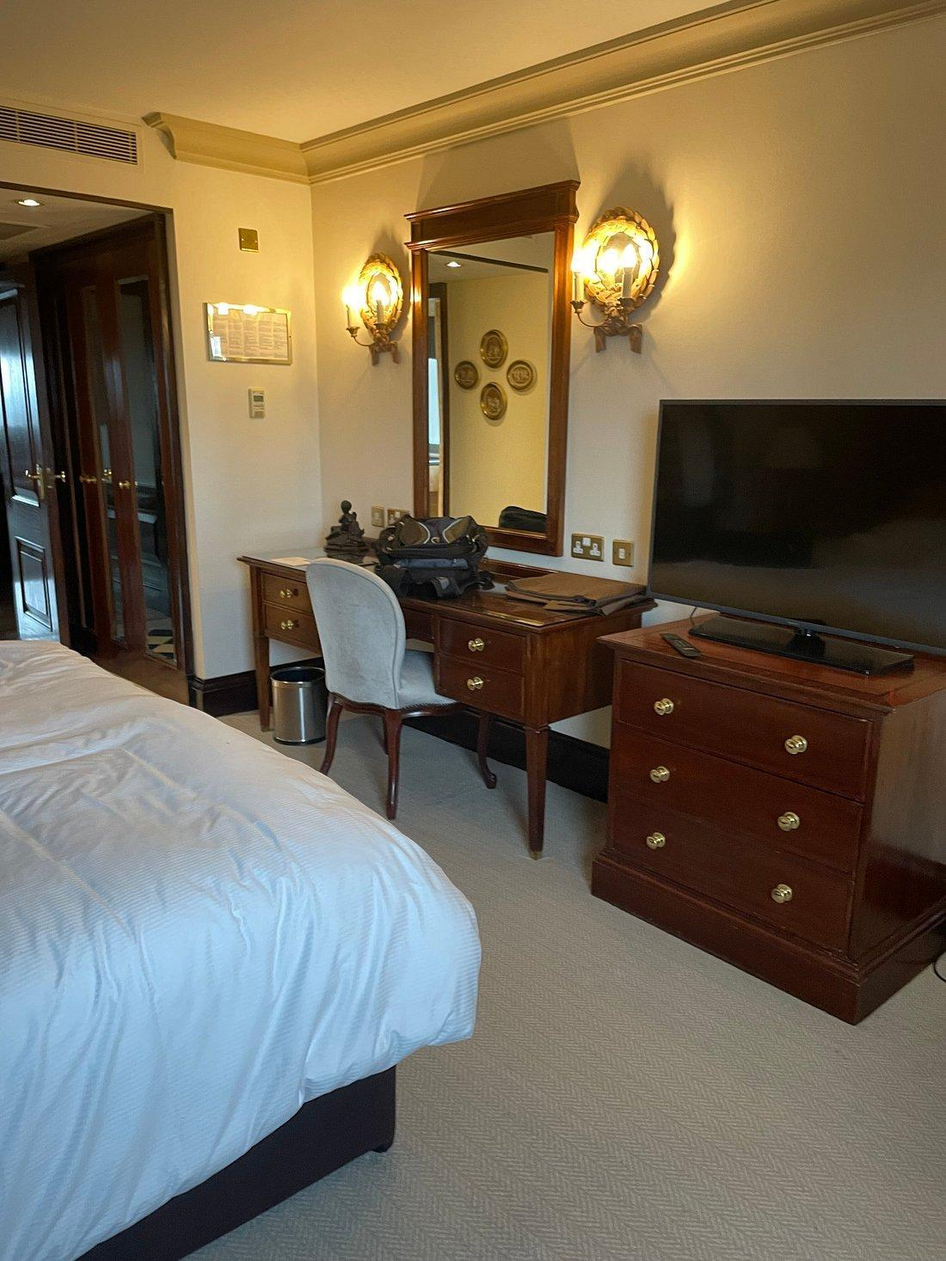chair: (187, 737, 944, 1255), (297, 565, 492, 814)
